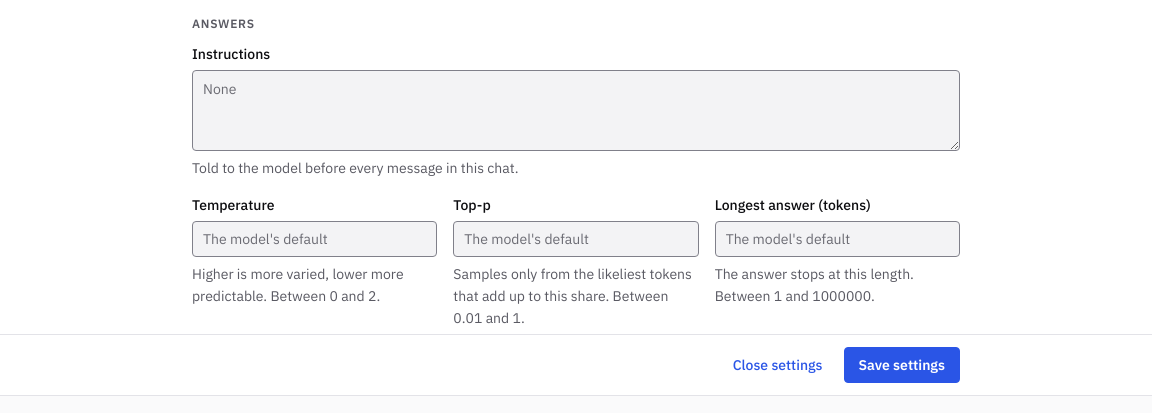
Test: a number out of range › names the field, marks it, and says so in the footer beside Save
Step 1. Type "9" into the field labelled "Temperature" → (315, 239), box [192, 221, 437, 257]
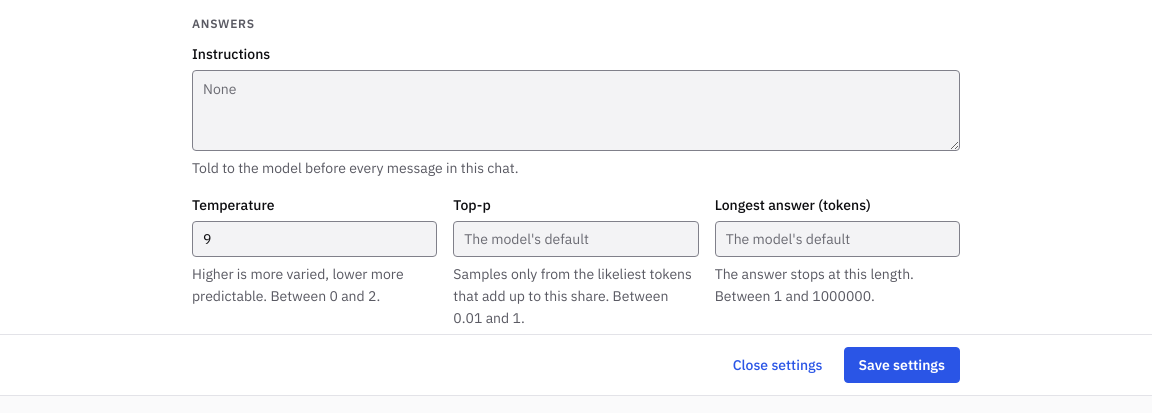
Step 2. Click the button "Save settings" → (902, 365), box [844, 347, 960, 383]
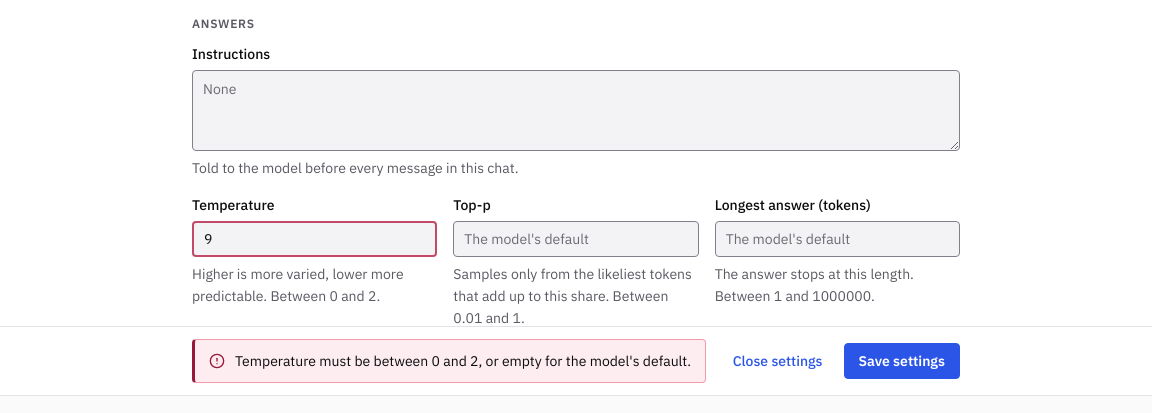
Expected: the element named "Temperature" is shown, [192, 16, 960, 327]
Now the message reads "Temperature must be between 0 and 2, or empty for the model's default.", box [235, 352, 691, 370]
